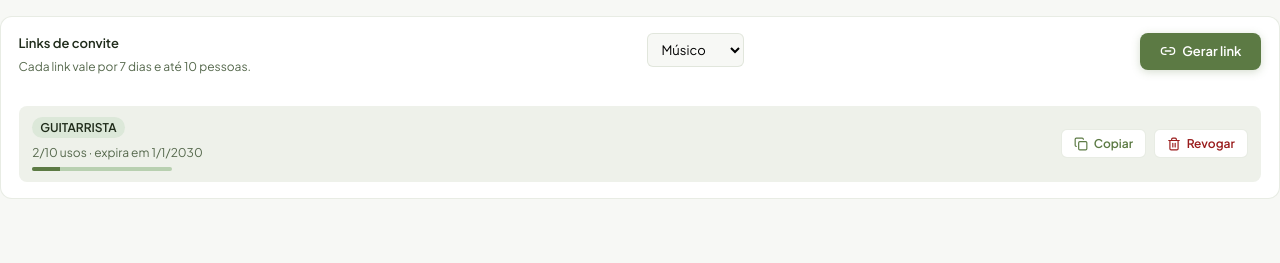
Scenario: InviteLinksPanel › mostra erro se a cópia falhar
The image size is (1280, 263).
expect the text "GUITARRISTA" is shown: met, box 32,117 -> 125,138
Click the button titled "Copiar link" at [1104, 144], box 1061,130 -> 1146,158
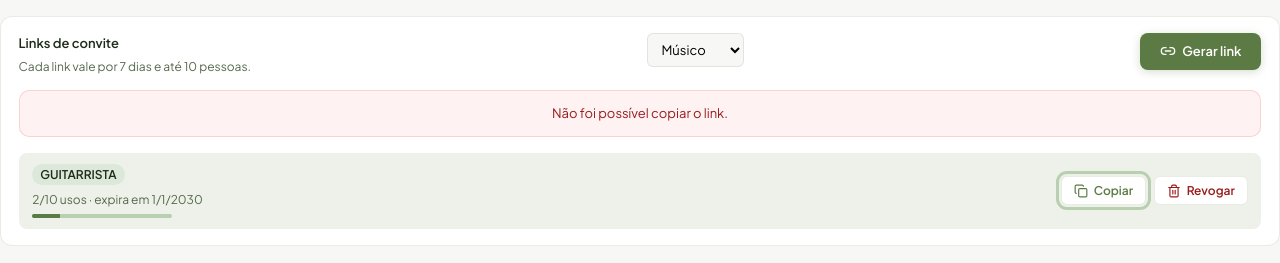
expect the text "Não foi possível copiar o link." is shown: met, box 19,90 -> 1261,137
